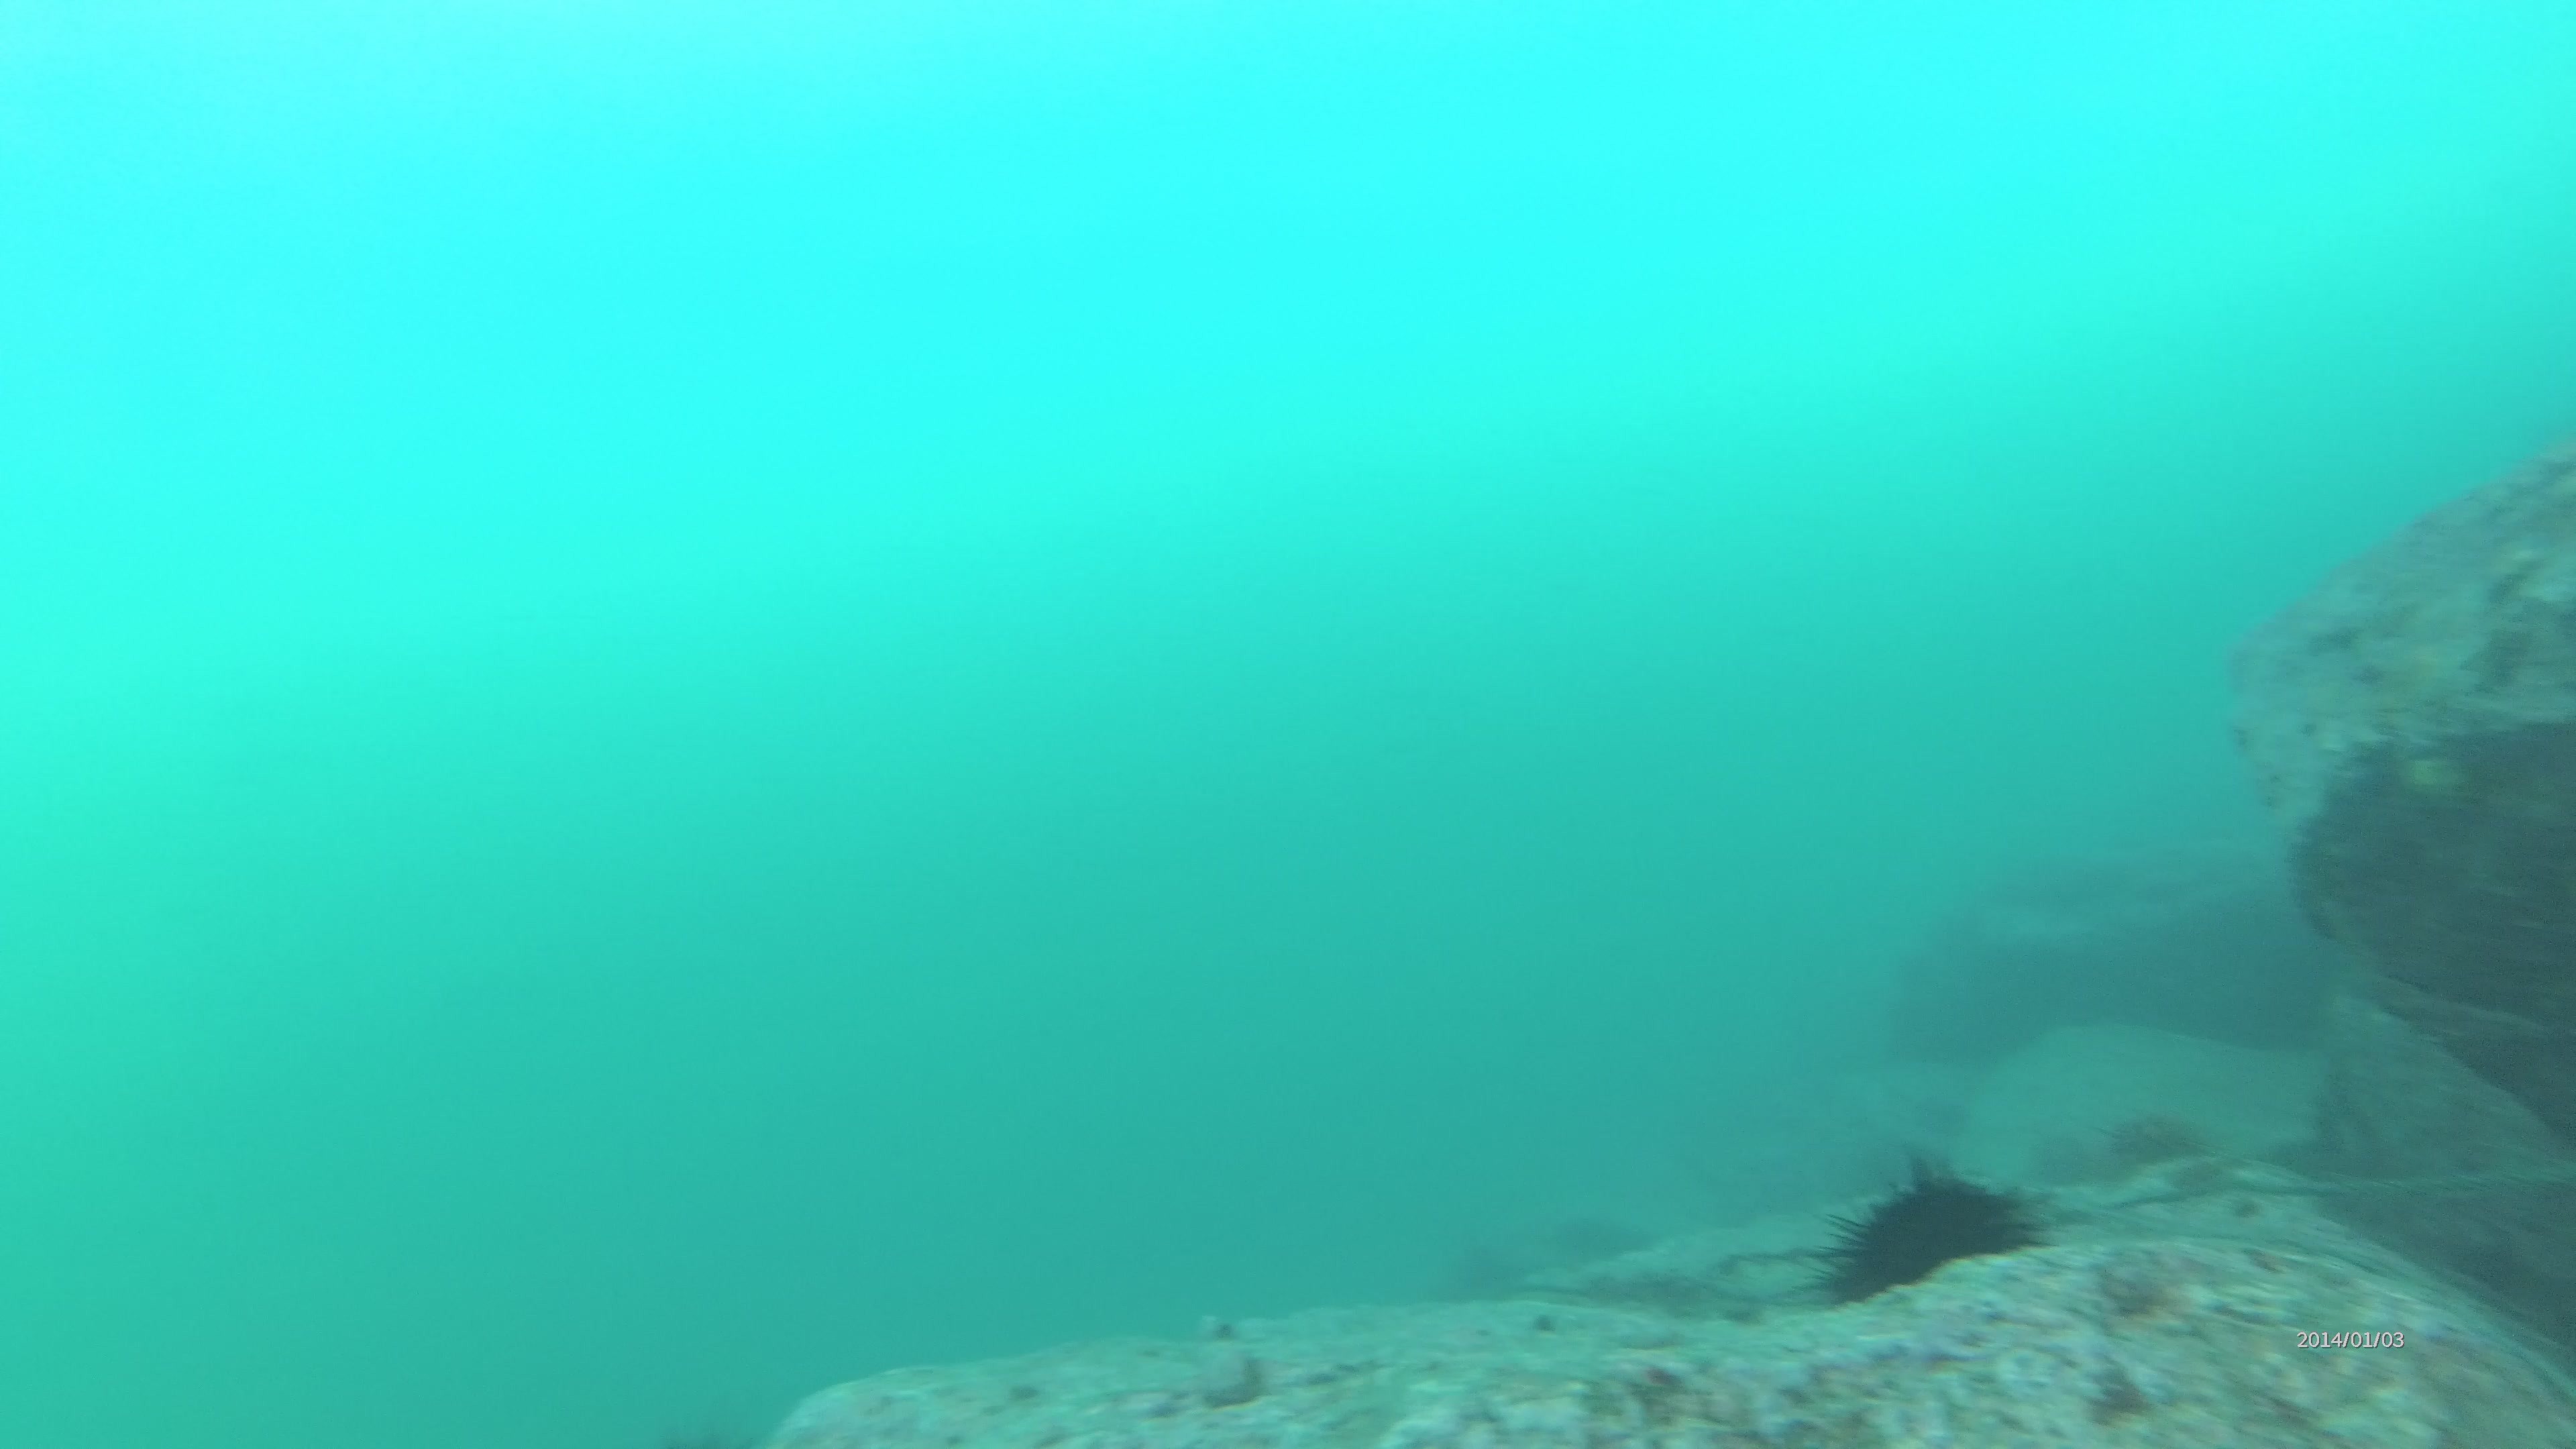echinus: (1808, 1146, 2070, 1313)
